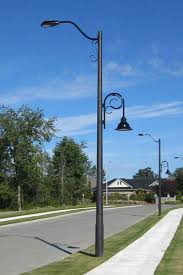light_pole: (86, 29, 114, 256), (152, 135, 168, 220)
